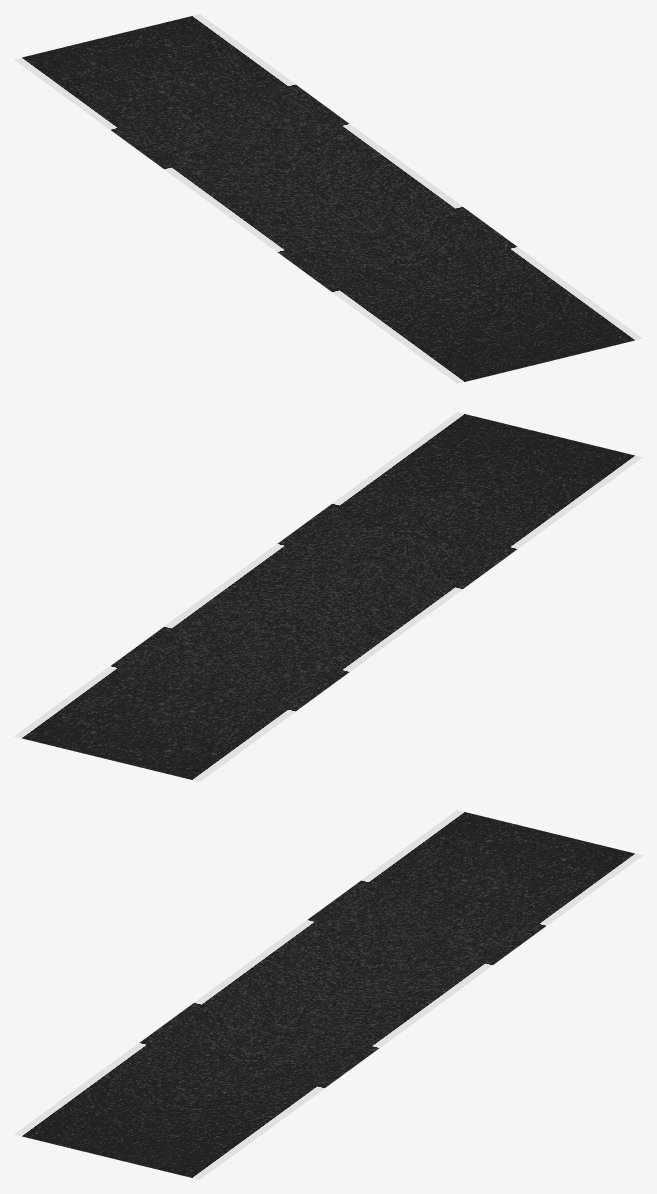
Rendered from roadMiddle.fbx.
The picture shows the model from 3 angles, top to bottom: view 1: azimuth 30°, elevation 25°; view 2: azimuth 150°, elevation 25°; view 3: azimuth 330°, elevation 25°; orthographic projection.
Parts seen in each view (by area): view 1: roadMiddle; view 2: roadMiddle; view 3: roadMiddle.
Part boxes in pixels (<box>): roadMiddle: <box>14,14,642,383</box>; roadMiddle: <box>14,412,642,781</box>; roadMiddle: <box>14,810,642,1179</box>.
Bounding box in the file's own units: 505 × 0 × 2087.
1 material, 1 textured.
